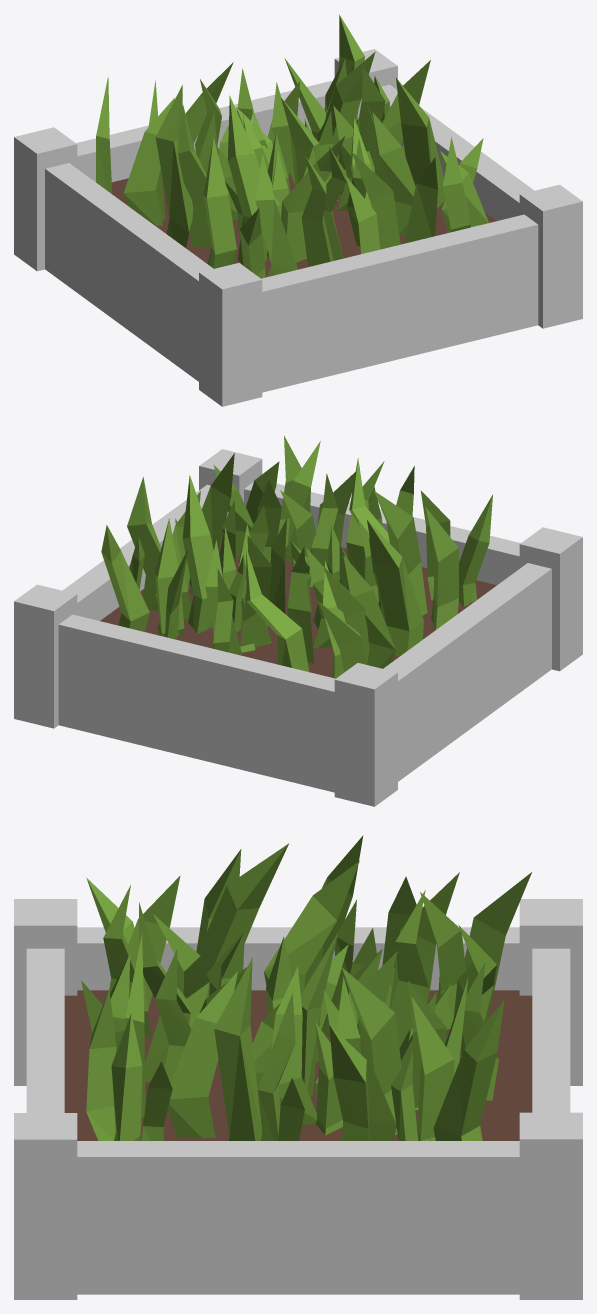
The picture shows the model from 3 angles, top to bottom: view 1: azimuth 30°, elevation 25°; view 2: azimuth 150°, elevation 25°; view 3: azimuth 270°, elevation 25°; orthographic projection. The views are drawn at different scales.
Visible parts, largest first — view 1: node_MeshObject-2137567232-PolyPaper21; view 2: node_MeshObject-2137567232-PolyPaper21; view 3: node_MeshObject-2137567232-PolyPaper21.
Boxes of the visible parts, box(x1,y1,x2,y2) form: node_MeshObject-2137567232-PolyPaper21: box(14, 14, 582, 406); node_MeshObject-2137567232-PolyPaper21: box(14, 435, 582, 806); node_MeshObject-2137567232-PolyPaper21: box(14, 835, 582, 1299).
Bounding box in the file's own units: 0.45 × 0.252 × 0.45.
